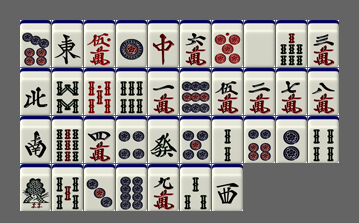0m: (84, 20, 115, 67)
0p: (212, 20, 243, 67)
0s: (84, 68, 115, 115)
1m: (148, 68, 179, 115)
1p: (116, 20, 147, 67)
1s: (20, 164, 51, 211)
1z: (52, 20, 83, 67)
2m: (244, 68, 275, 115)
2p: (276, 116, 307, 163)
2s: (212, 116, 243, 163)
2z: (20, 116, 51, 163)
3m: (308, 20, 339, 67)
3p: (84, 164, 115, 211)
3s: (180, 164, 211, 211)
3z: (212, 164, 243, 211)
4m: (84, 116, 115, 163)
4p: (116, 116, 147, 163)
4s: (308, 116, 339, 163)
4z: (20, 68, 51, 115)
5m: (212, 68, 243, 115)
5p: (180, 116, 211, 163)
5s: (52, 164, 83, 211)
5z: (244, 20, 275, 67)
6m: (180, 20, 211, 67)
6p: (244, 116, 275, 163)
6s: (116, 68, 147, 115)
6z: (148, 116, 179, 163)
7m: (276, 68, 307, 115)
7p: (20, 20, 51, 67)
7s: (276, 20, 307, 67)
7z: (148, 20, 179, 67)
8m: (308, 68, 339, 115)
8p: (116, 164, 147, 211)
8s: (52, 68, 83, 115)
9m: (148, 164, 179, 211)
9p: (180, 68, 211, 115)
9s: (52, 116, 83, 163)
